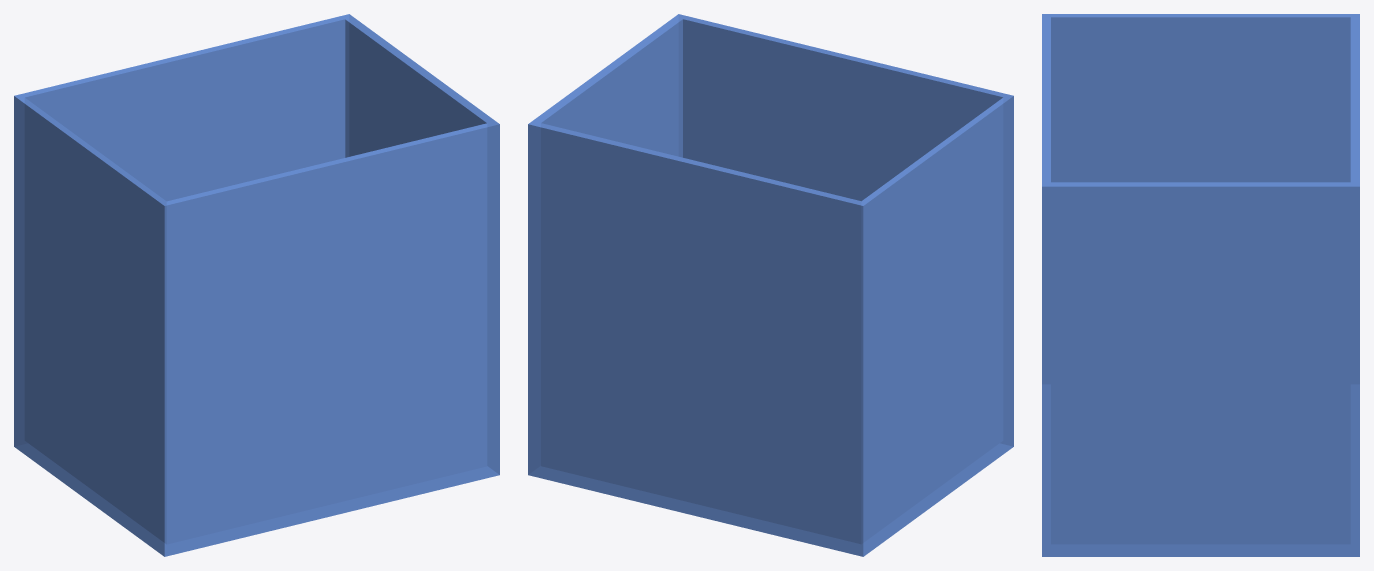
File: glass.dae
3 views of the same model, side by side, from view 1: azimuth 30°, elevation 25°; view 2: azimuth 150°, elevation 25°; view 3: azimuth 270°, elevation 25° (orthographic). The views are drawn at different scales.
Visible parts, largest first — view 1: 差集 (×2); view 2: 差集 (×2); view 3: 差集 (×2).
Part boxes in pixels (x1,y1,x2,y2): 差集 (×2): [14, 14, 499, 556]; 差集 (×2): [528, 14, 1013, 556]; 差集 (×2): [1042, 14, 1359, 556].
Bounding box in the file's own units: 3.54 × 2.76 × 3.54.
